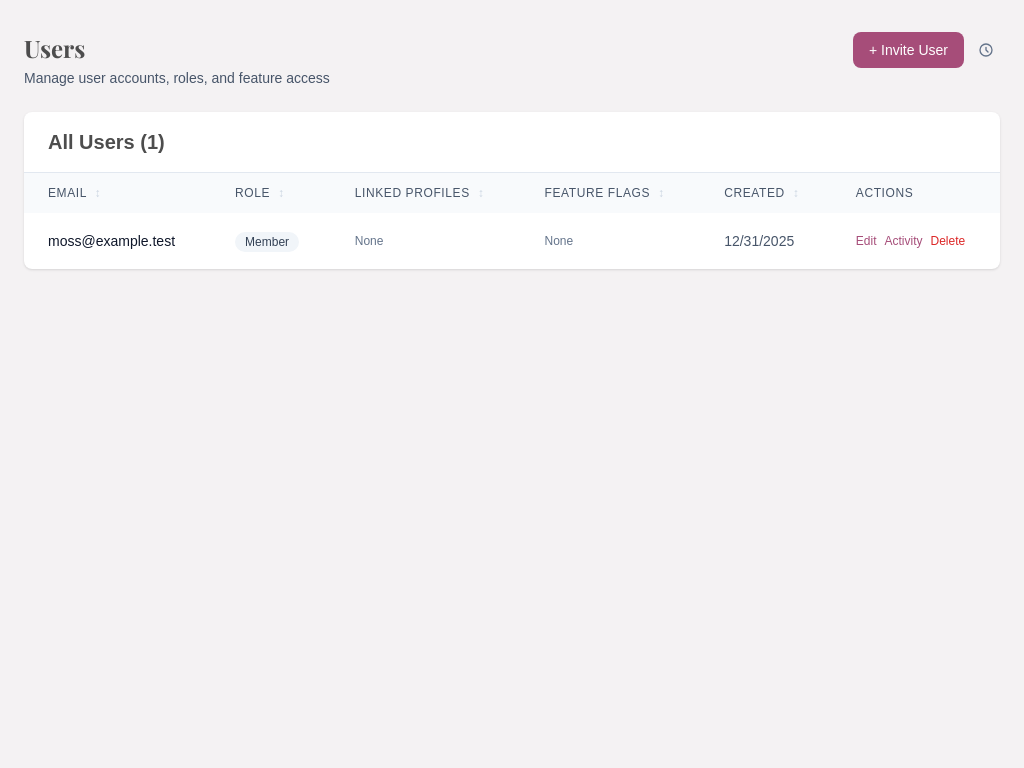
Test: UsersClient activity modal › groups a visit by place with counts and keeps the raw order behind a toggle
Click the button "Activity": (904, 241) 884,233 -> 922,249
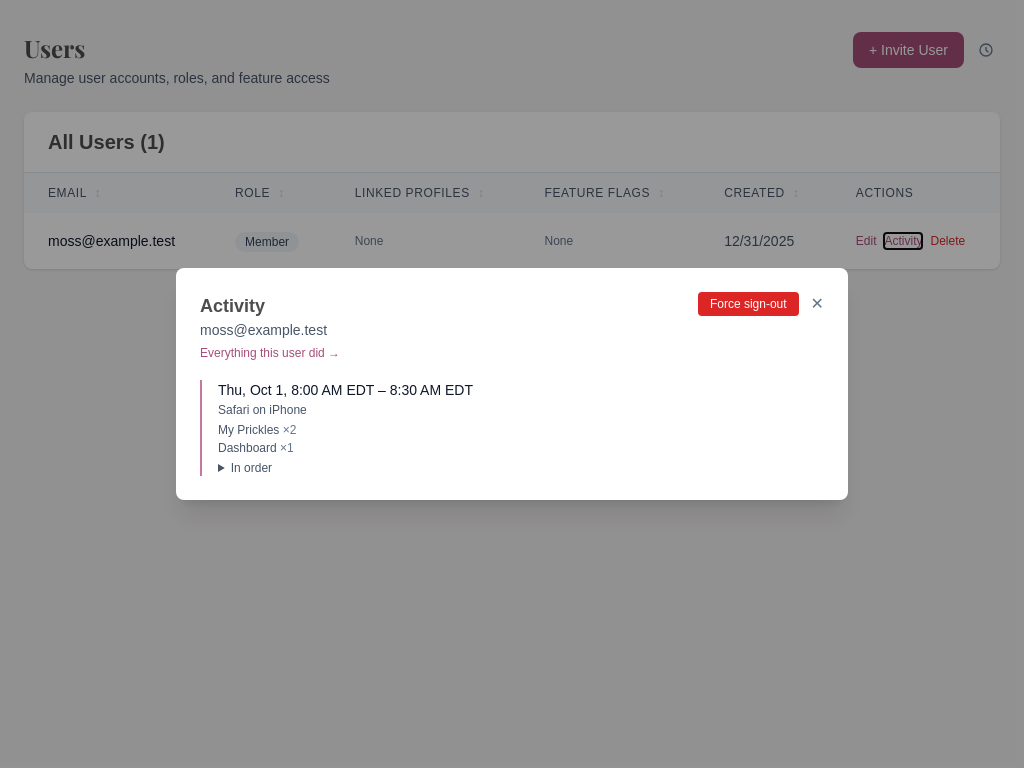
Check: the list item "My Prickles" is shown, box 218,423 -> 279,437
Check: the text "×2" is shown, box 283,423 -> 296,437
Check: the list item "Dashboard" is shown, box 218,441 -> 277,455
